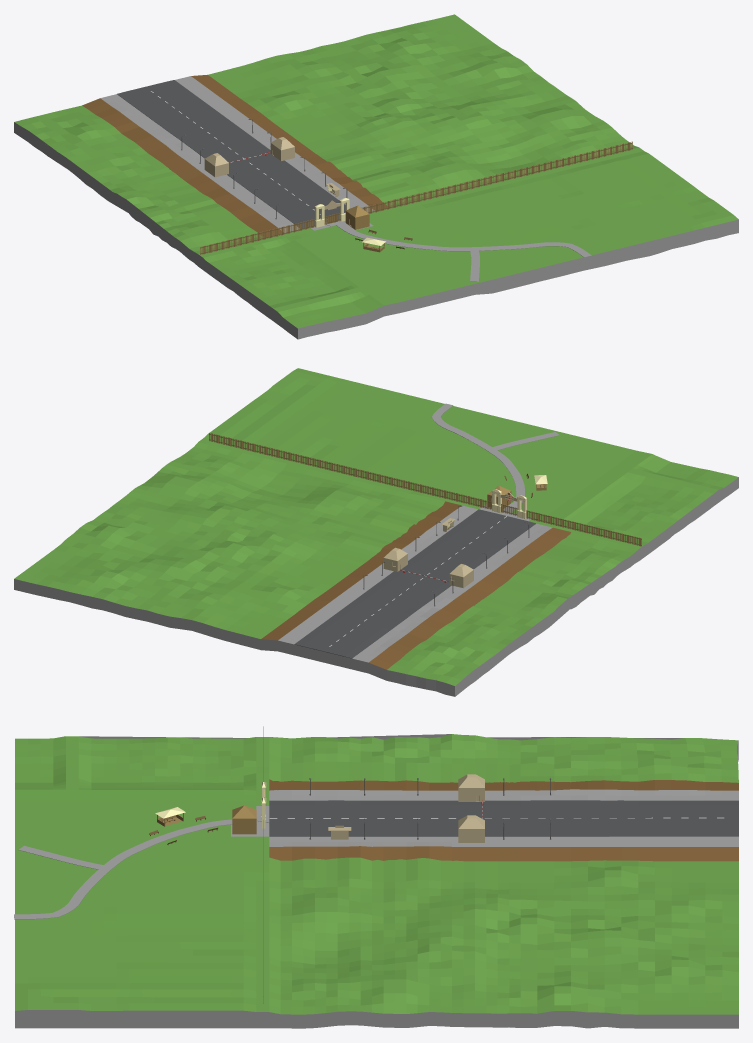
File: SceneParking.fbx
3 renders of one model, top to bottom at view 1: azimuth 30°, elevation 25°; view 2: azimuth 150°, elevation 25°; view 3: azimuth 270°, elevation 25°, orthographic. The views are drawn at different scales.
Parts seen in each view (by area): view 1: Ландшафт, Забор2, Дорожка1, Забор1; view 2: Ландшафт, Забор2, Дорожка1, Забор1; view 3: Ландшафт, Дорожка1, ПостОхраны1, ПостОхраны2, ДомикГлавныйВход, Дорожка2.
Boxes of the visible parts, box(x1,y1,x2,y2) form: Ландшафт: box(14, 14, 738, 339); Забор2: box(361, 141, 632, 213); Дорожка1: box(336, 223, 591, 257); Забор1: box(200, 219, 315, 254); Ландшафт: box(14, 368, 738, 696); Забор2: box(209, 433, 491, 509); Дорожка1: box(432, 403, 525, 512); Забор1: box(526, 510, 641, 546); Ландшафт: box(15, 734, 738, 1028); Дорожка1: box(14, 819, 256, 919); ПостОхраны1: box(458, 815, 484, 842); ПостОхраны2: box(458, 774, 484, 801); ДомикГлавныйВход: box(232, 805, 256, 834); Дорожка2: box(18, 845, 103, 869).
Size of the model in its own units: 33941 by 3030 by 37905.
